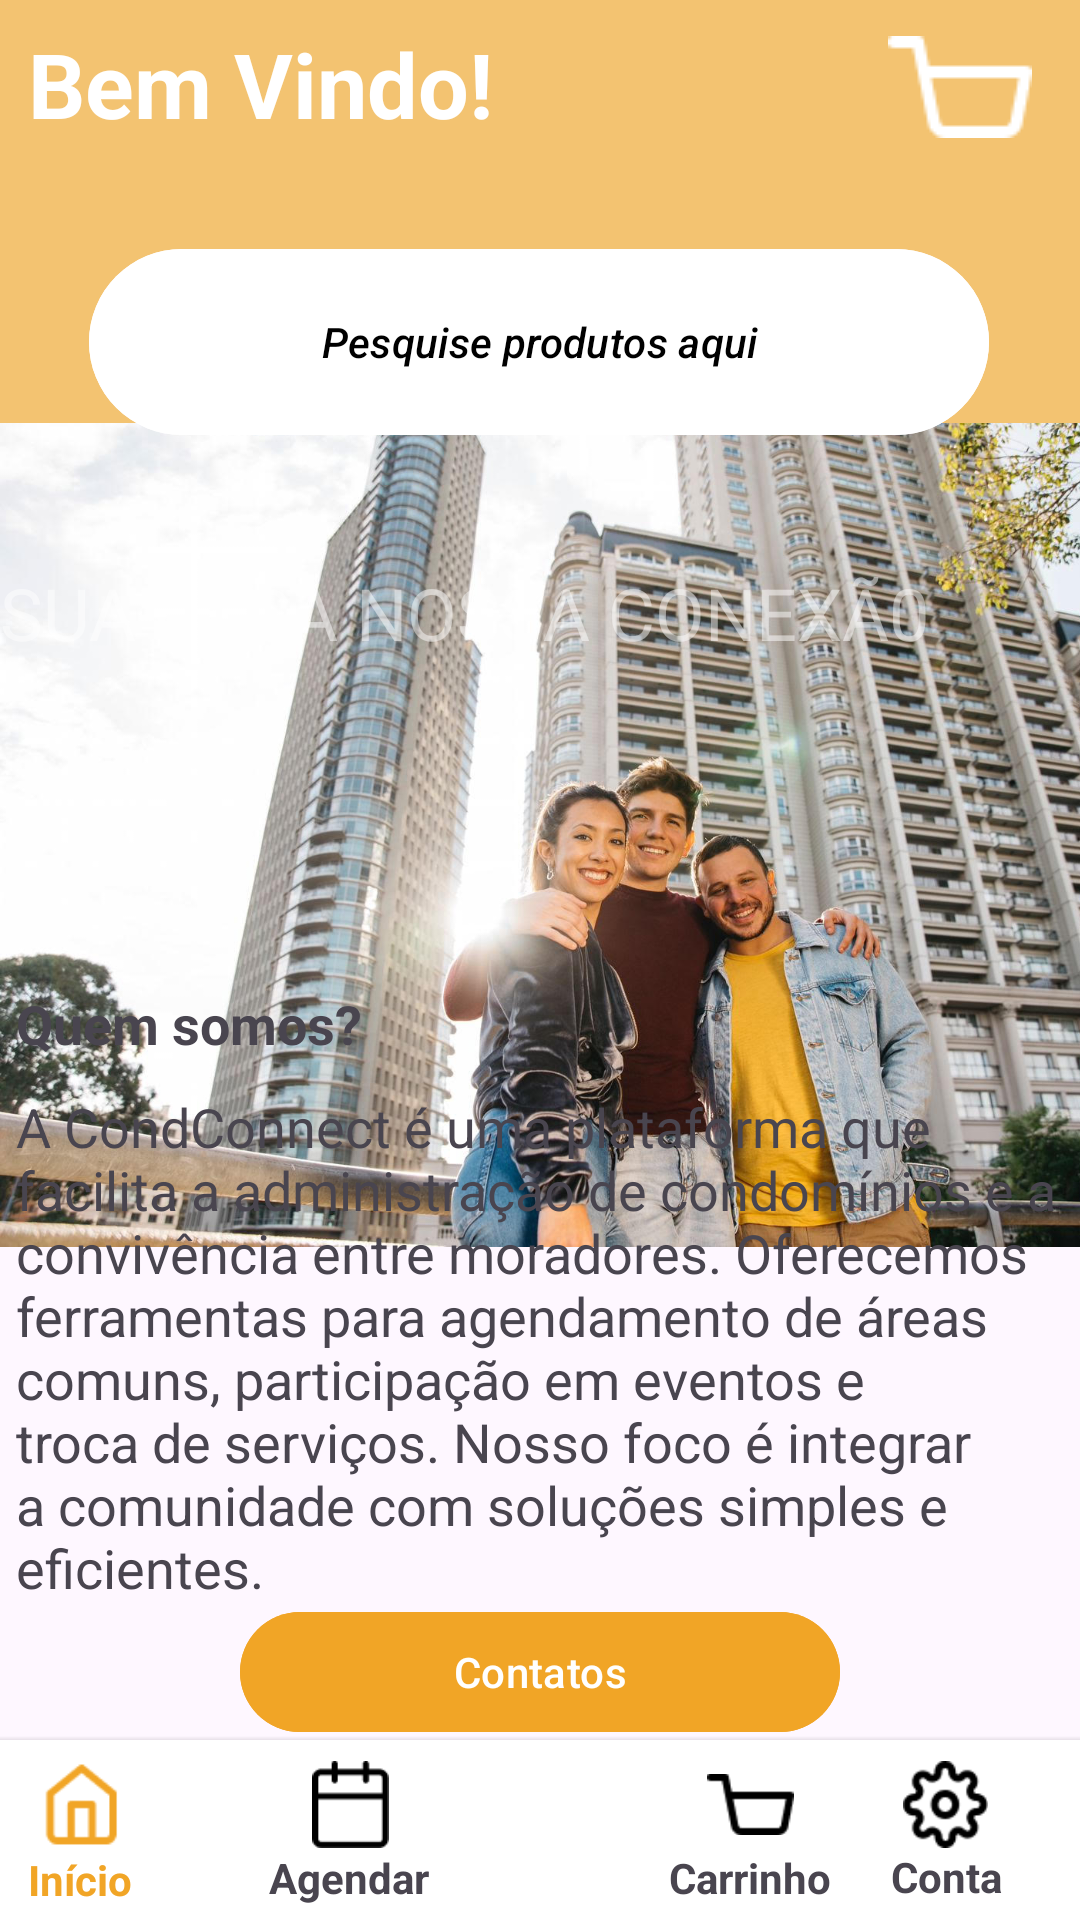

Icon bounding boxes for this 1080w x 1920h phone screenshot, format [x1, y1, x2, y2]:
calendar: [312, 1761, 389, 1848]
settings: [903, 1761, 988, 1848]
